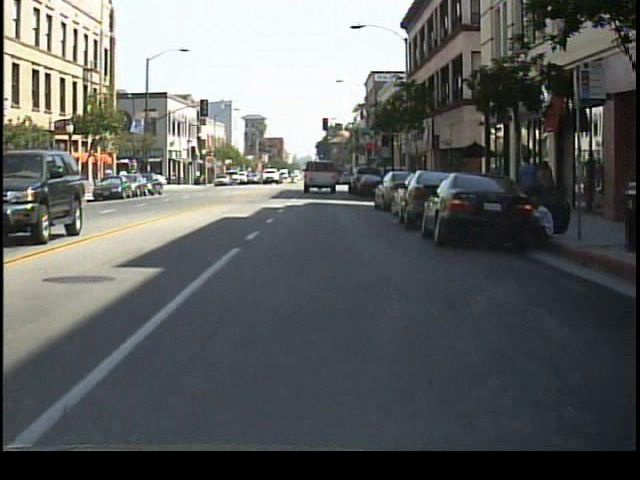person: (513, 150, 539, 222), (533, 157, 557, 220)
